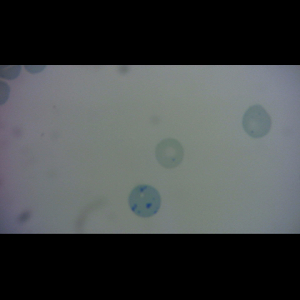aggregate reticulocyte: (128, 185, 162, 218)
punctate reticulocyte: (241, 104, 273, 139), (155, 138, 186, 169)
